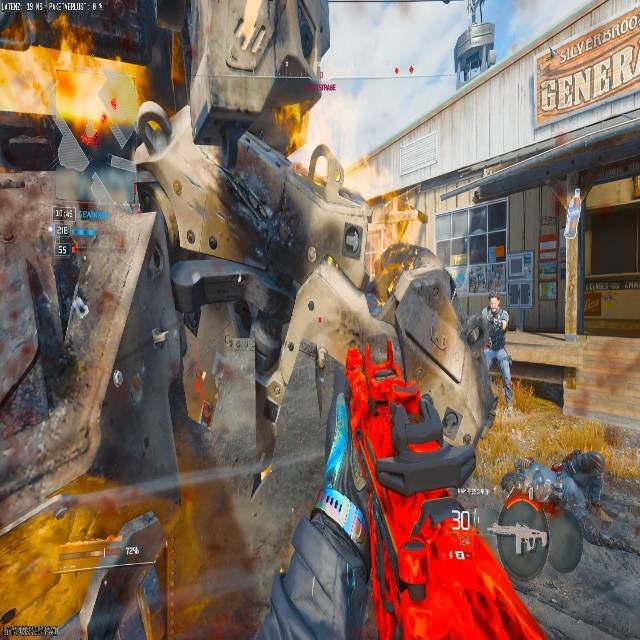head: (482, 296, 500, 317), (488, 295, 500, 311)
player: (285, 214, 482, 640), (464, 295, 514, 411), (450, 9, 496, 85)
